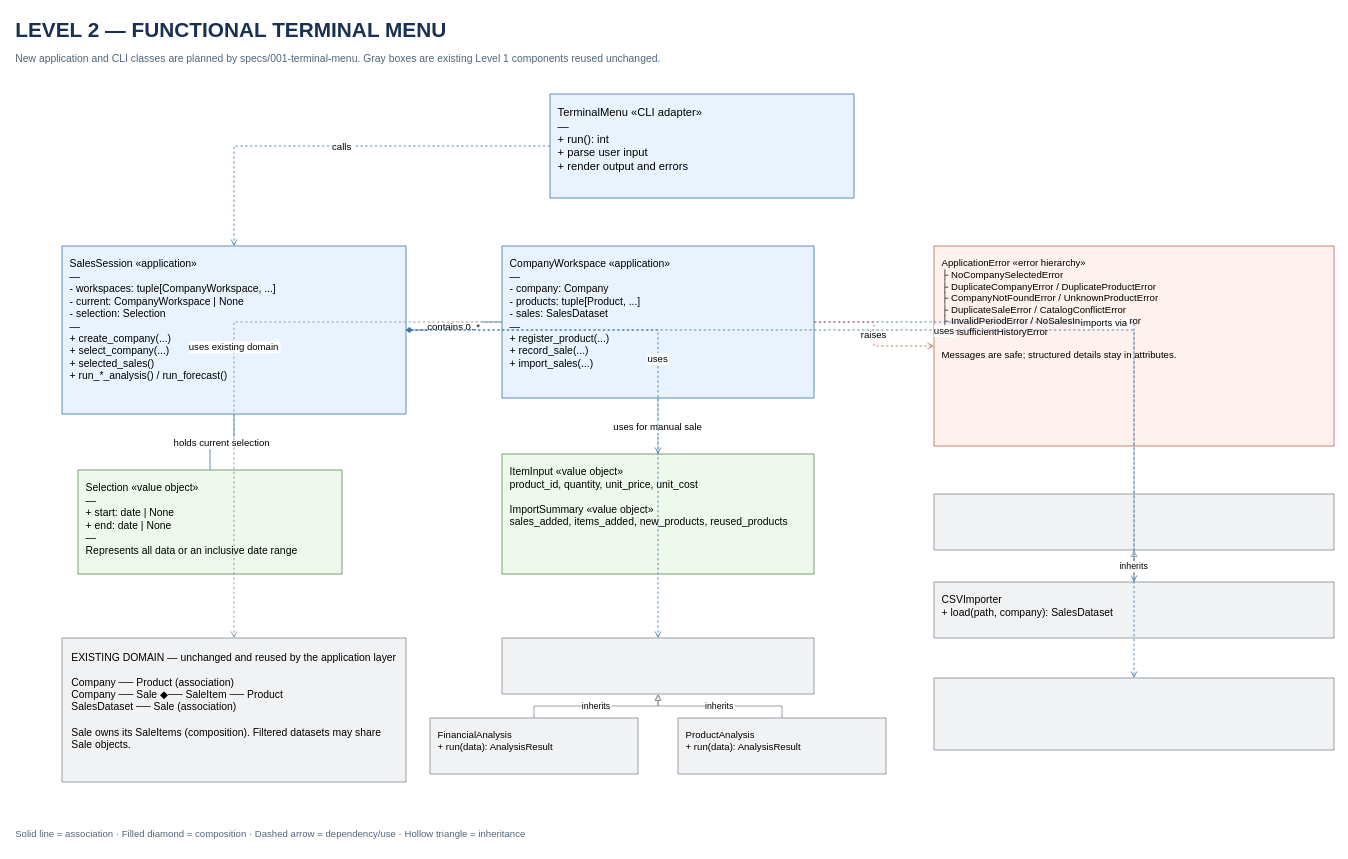
Some shapes in this 1348 by 859 pixel diagram are drawn without their labels. Here are the shapes that lost their labels. From the top down, the box of each, then its label:
(933, 493, 1334, 550): «abstract» DataImporter + load(path, company): SalesDataset
(501, 637, 814, 694): «abstract» Analysis + run(data: SalesDataset): AnalysisResult
(933, 677, 1334, 750): RevenueForecaster «existing» + forecast(data): ForecastResult
